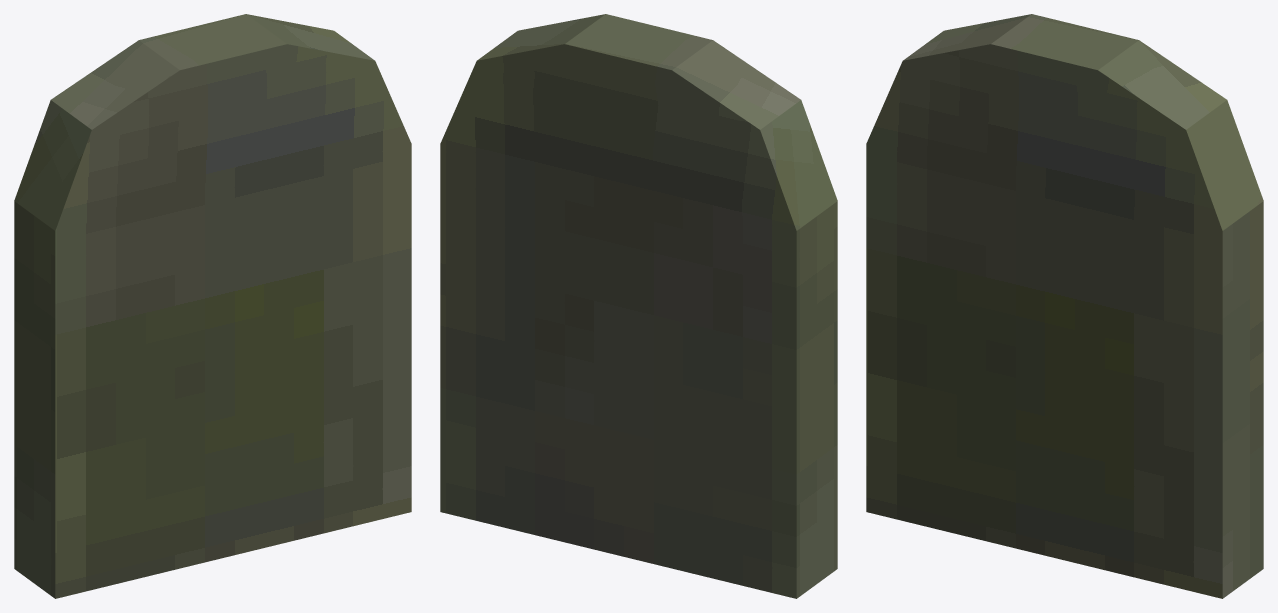
The model's file is item_halloween_tombstone.glb.
3 renders of one model, left to right at view 1: azimuth 30°, elevation 25°; view 2: azimuth 150°, elevation 25°; view 3: azimuth 330°, elevation 25°, orthographic.
Visible parts, largest first — view 1: tombstone; view 2: tombstone; view 3: tombstone.
Boxes of the visible parts, x1=… form: tombstone: x1=14, y1=14, x2=411, y2=598; tombstone: x1=440, y1=14, x2=837, y2=598; tombstone: x1=866, y1=14, x2=1263, y2=598.
Bounding box in the file's own units: 0.5988 × 0.8 × 0.1198.
Materials: 1 (1 with a texture image).
